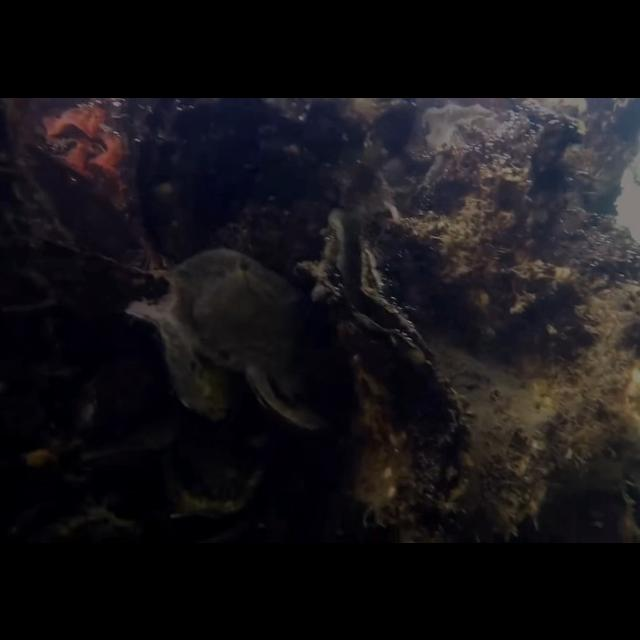Oyster-Closed: (170, 247, 346, 431)
Oyster-Open: (298, 205, 440, 371)
